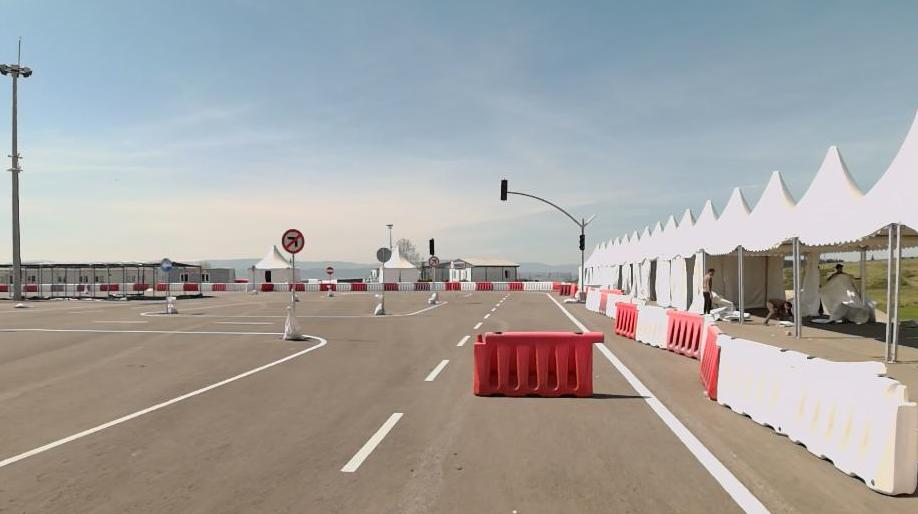sola_donulmez: (280, 224, 306, 255)
